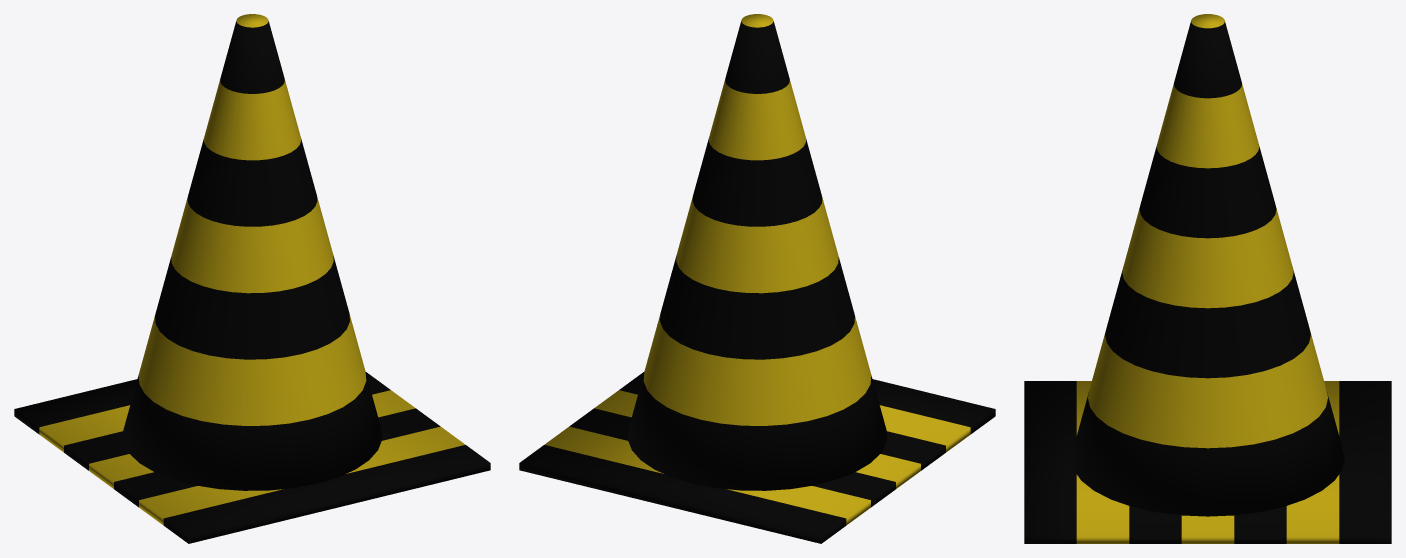
Rendered from Cone amarelo 01 - 1.fbx.
3 views of the same model, side by side, from view 1: azimuth 30°, elevation 25°; view 2: azimuth 150°, elevation 25°; view 3: azimuth 270°, elevation 25° (orthographic). The views are drawn at different scales.
Visible parts, largest first — view 1: Plano.215; view 2: Plano.215; view 3: Plano.215.
Part boxes in pixels (box(x1,y1,x2,y2)): Plano.215: box(14, 14, 490, 543); Plano.215: box(519, 14, 995, 543); Plano.215: box(1024, 14, 1391, 543).
Size of the model in its own units: 58.44 by 78.14 by 58.44.
